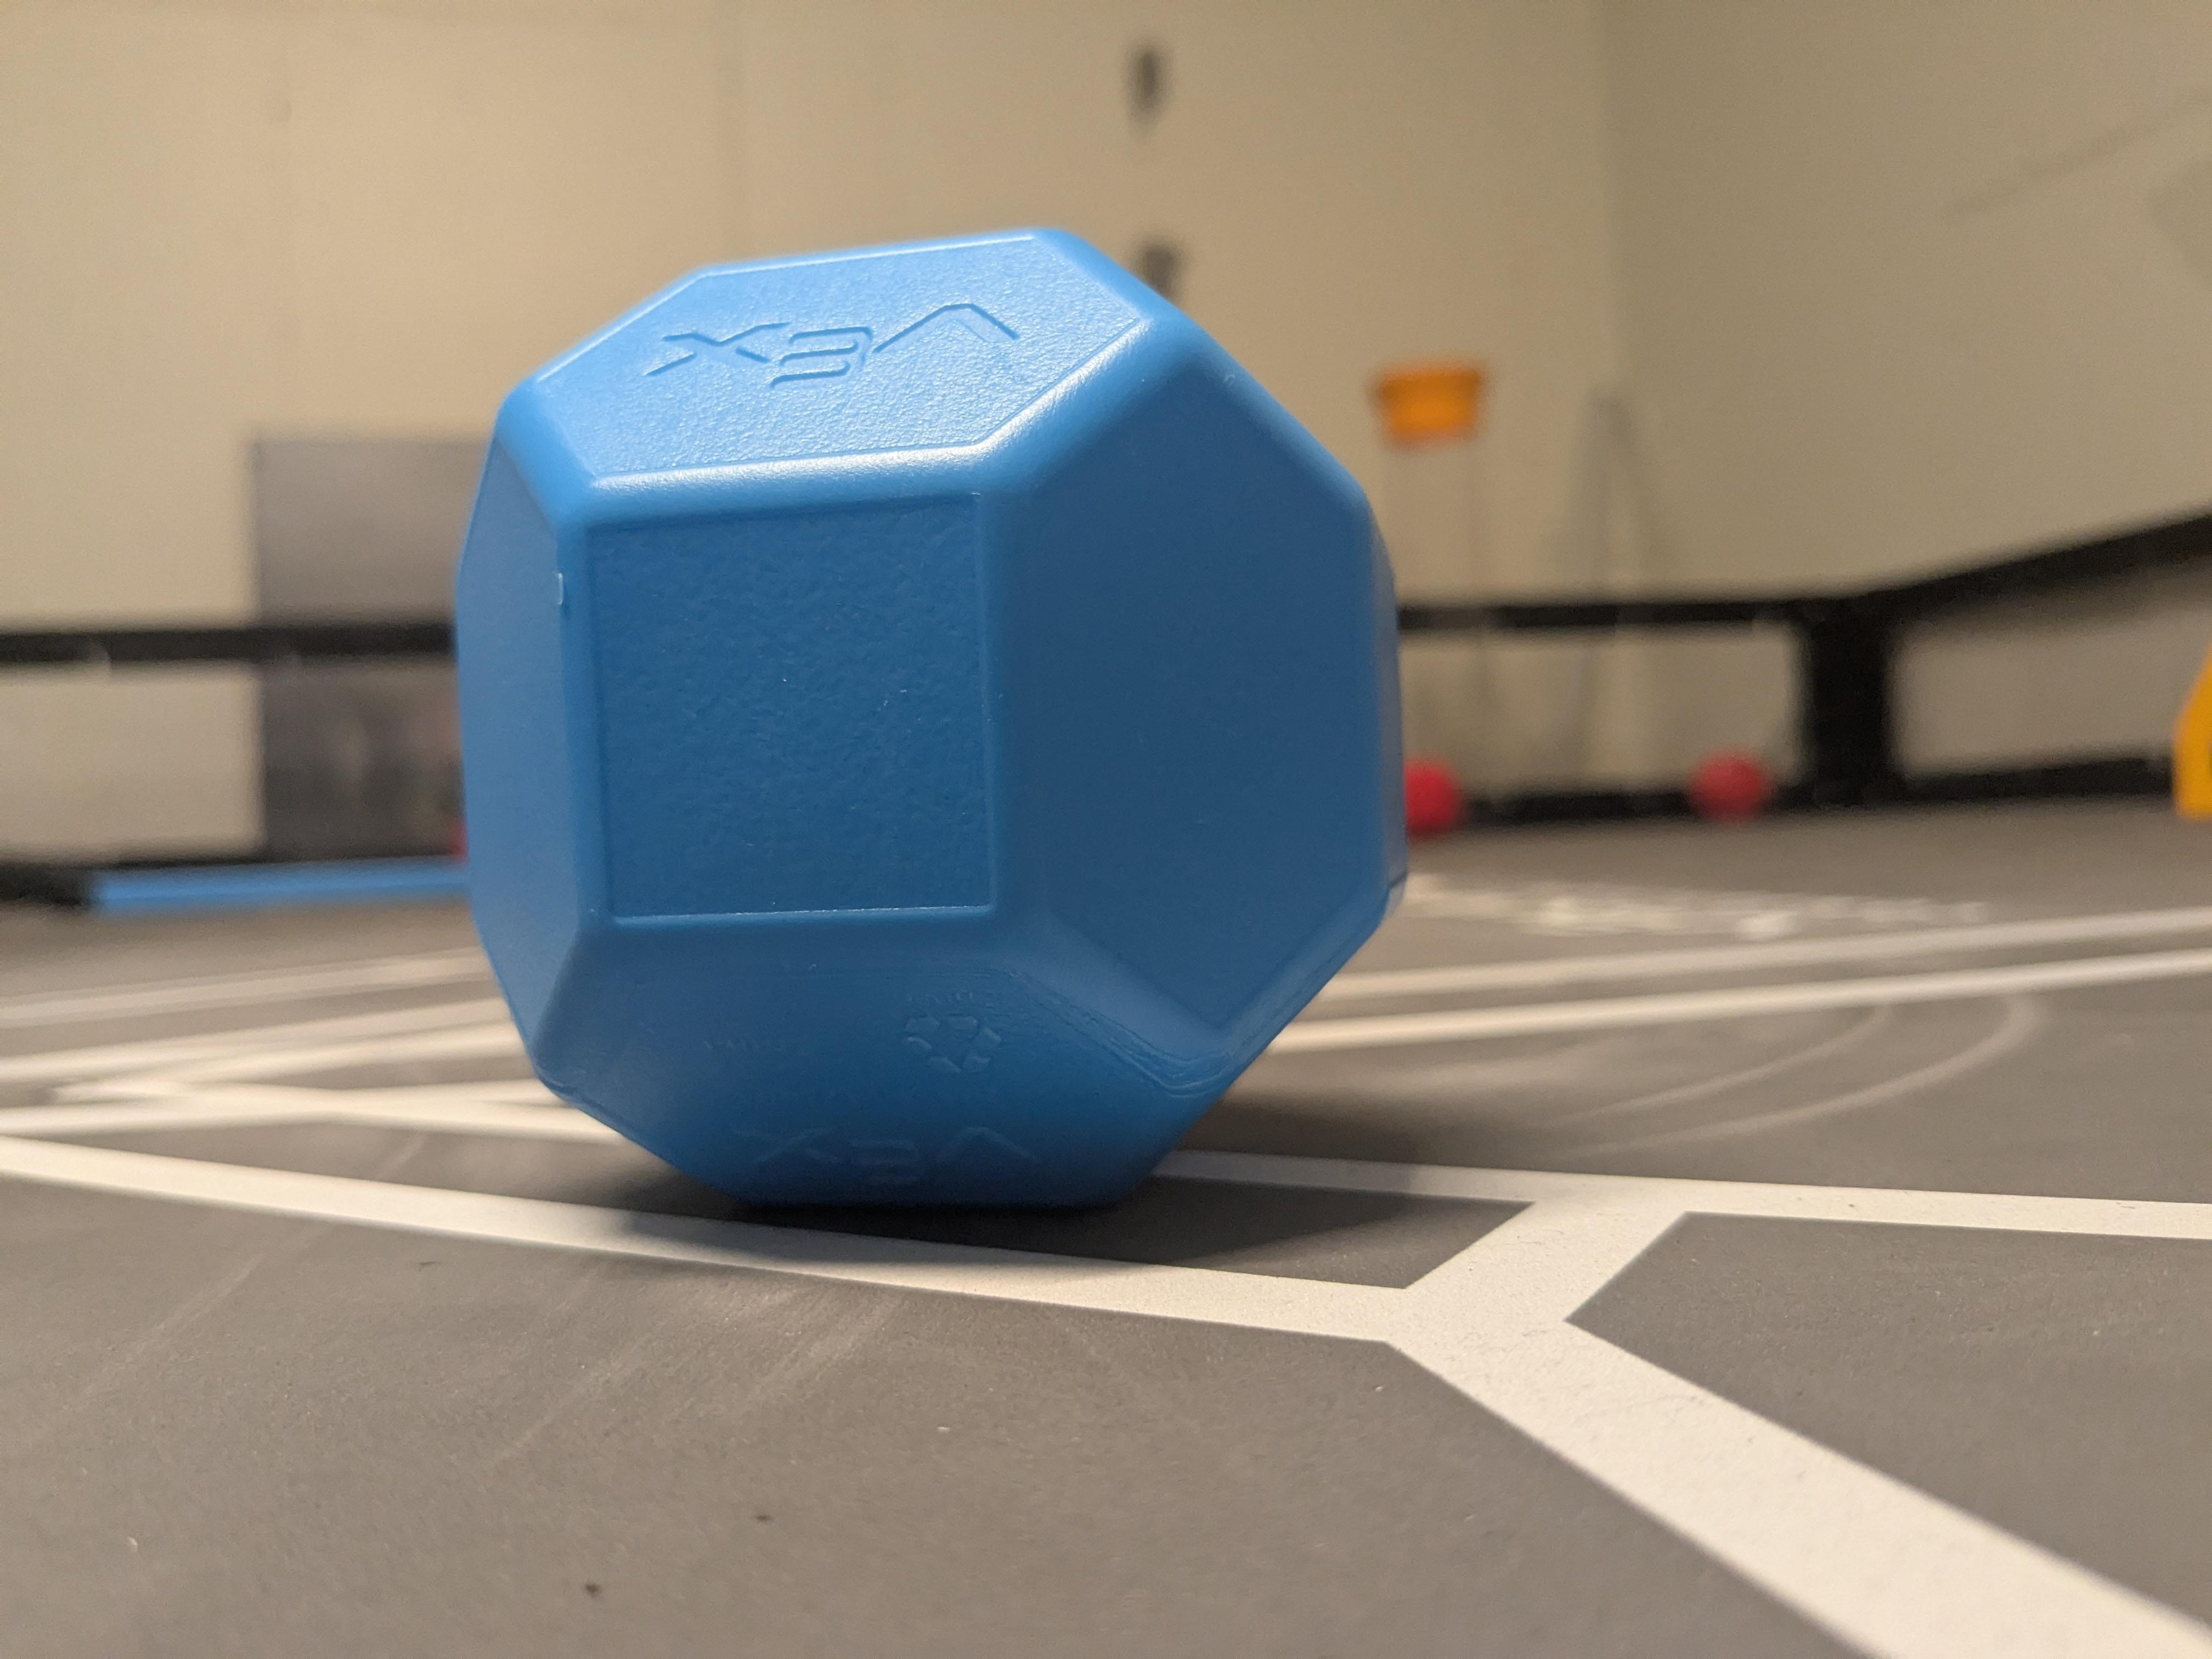Vex-Pieces-BLUE: (456, 230, 1404, 1204)
